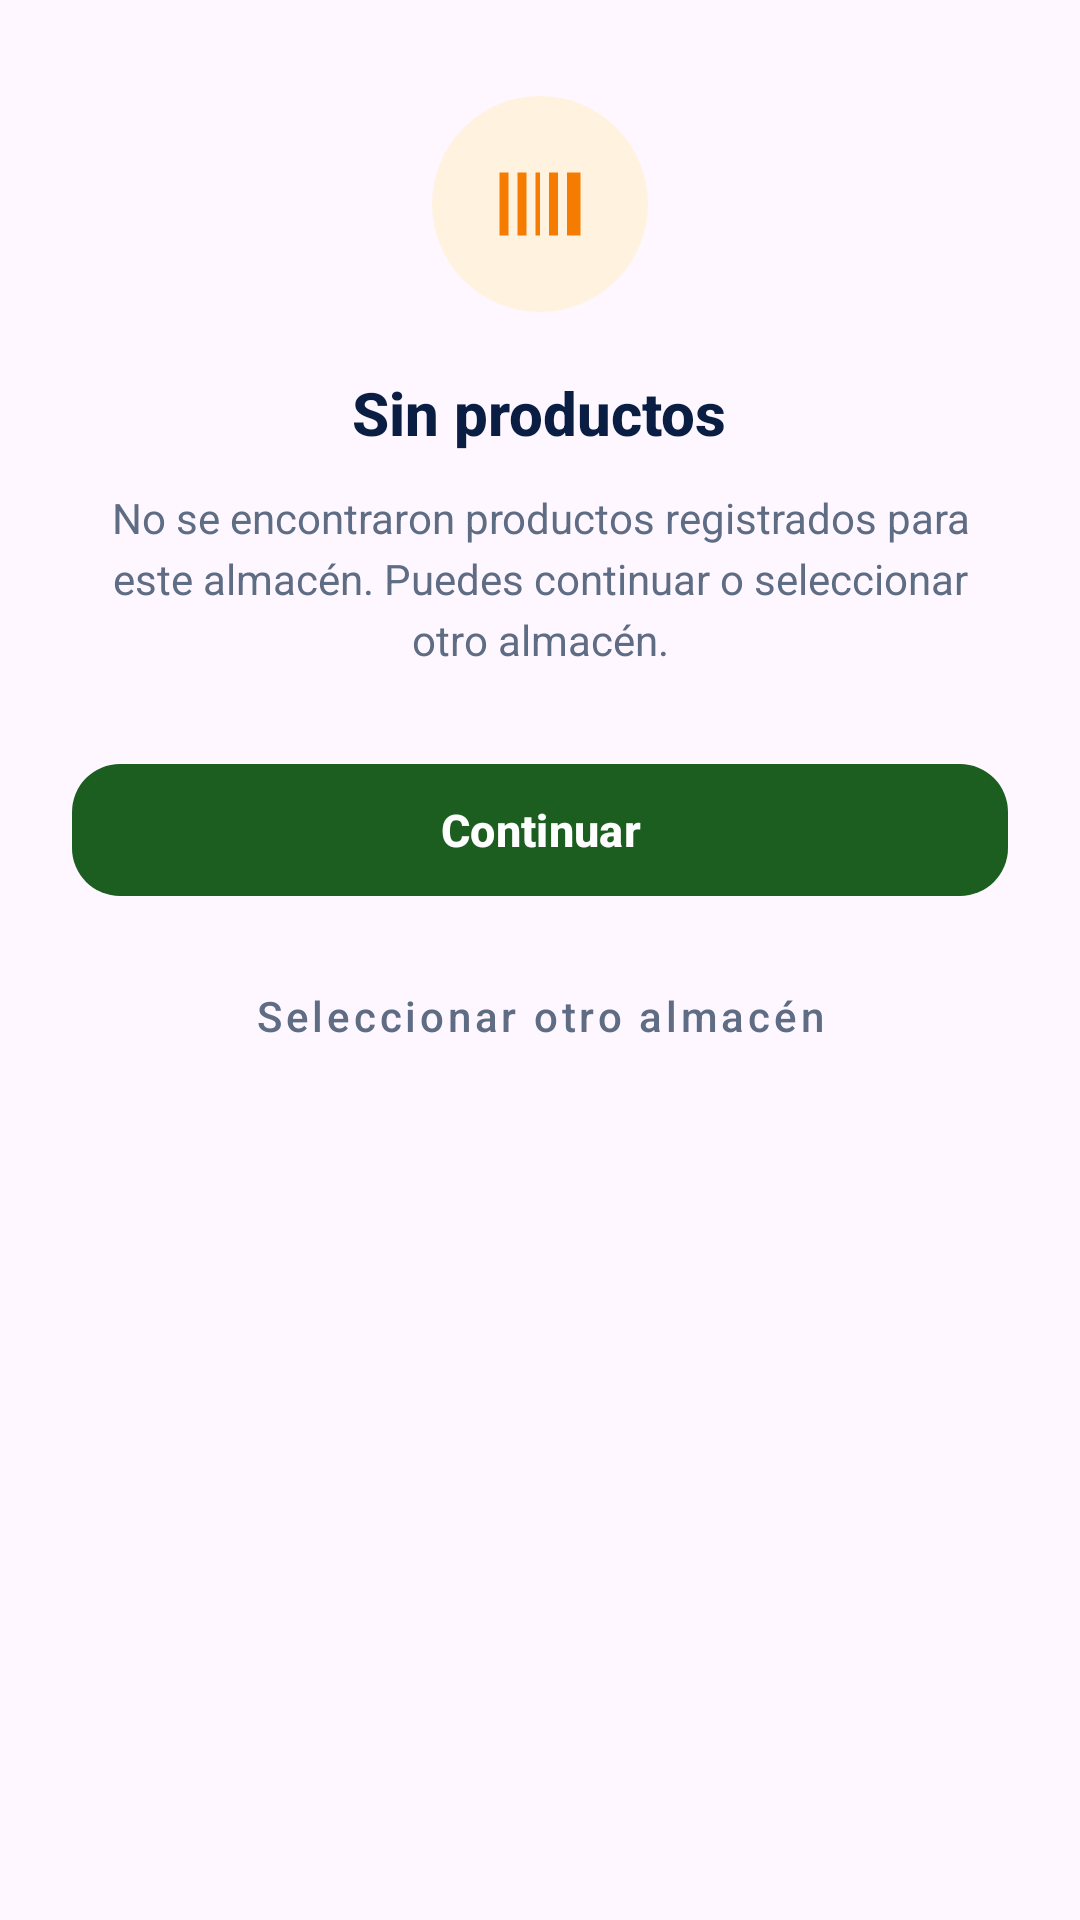

Named icons in this screenshot (1080px×1920px) and their centers, point (x, y):
barcode: point (540, 204)
